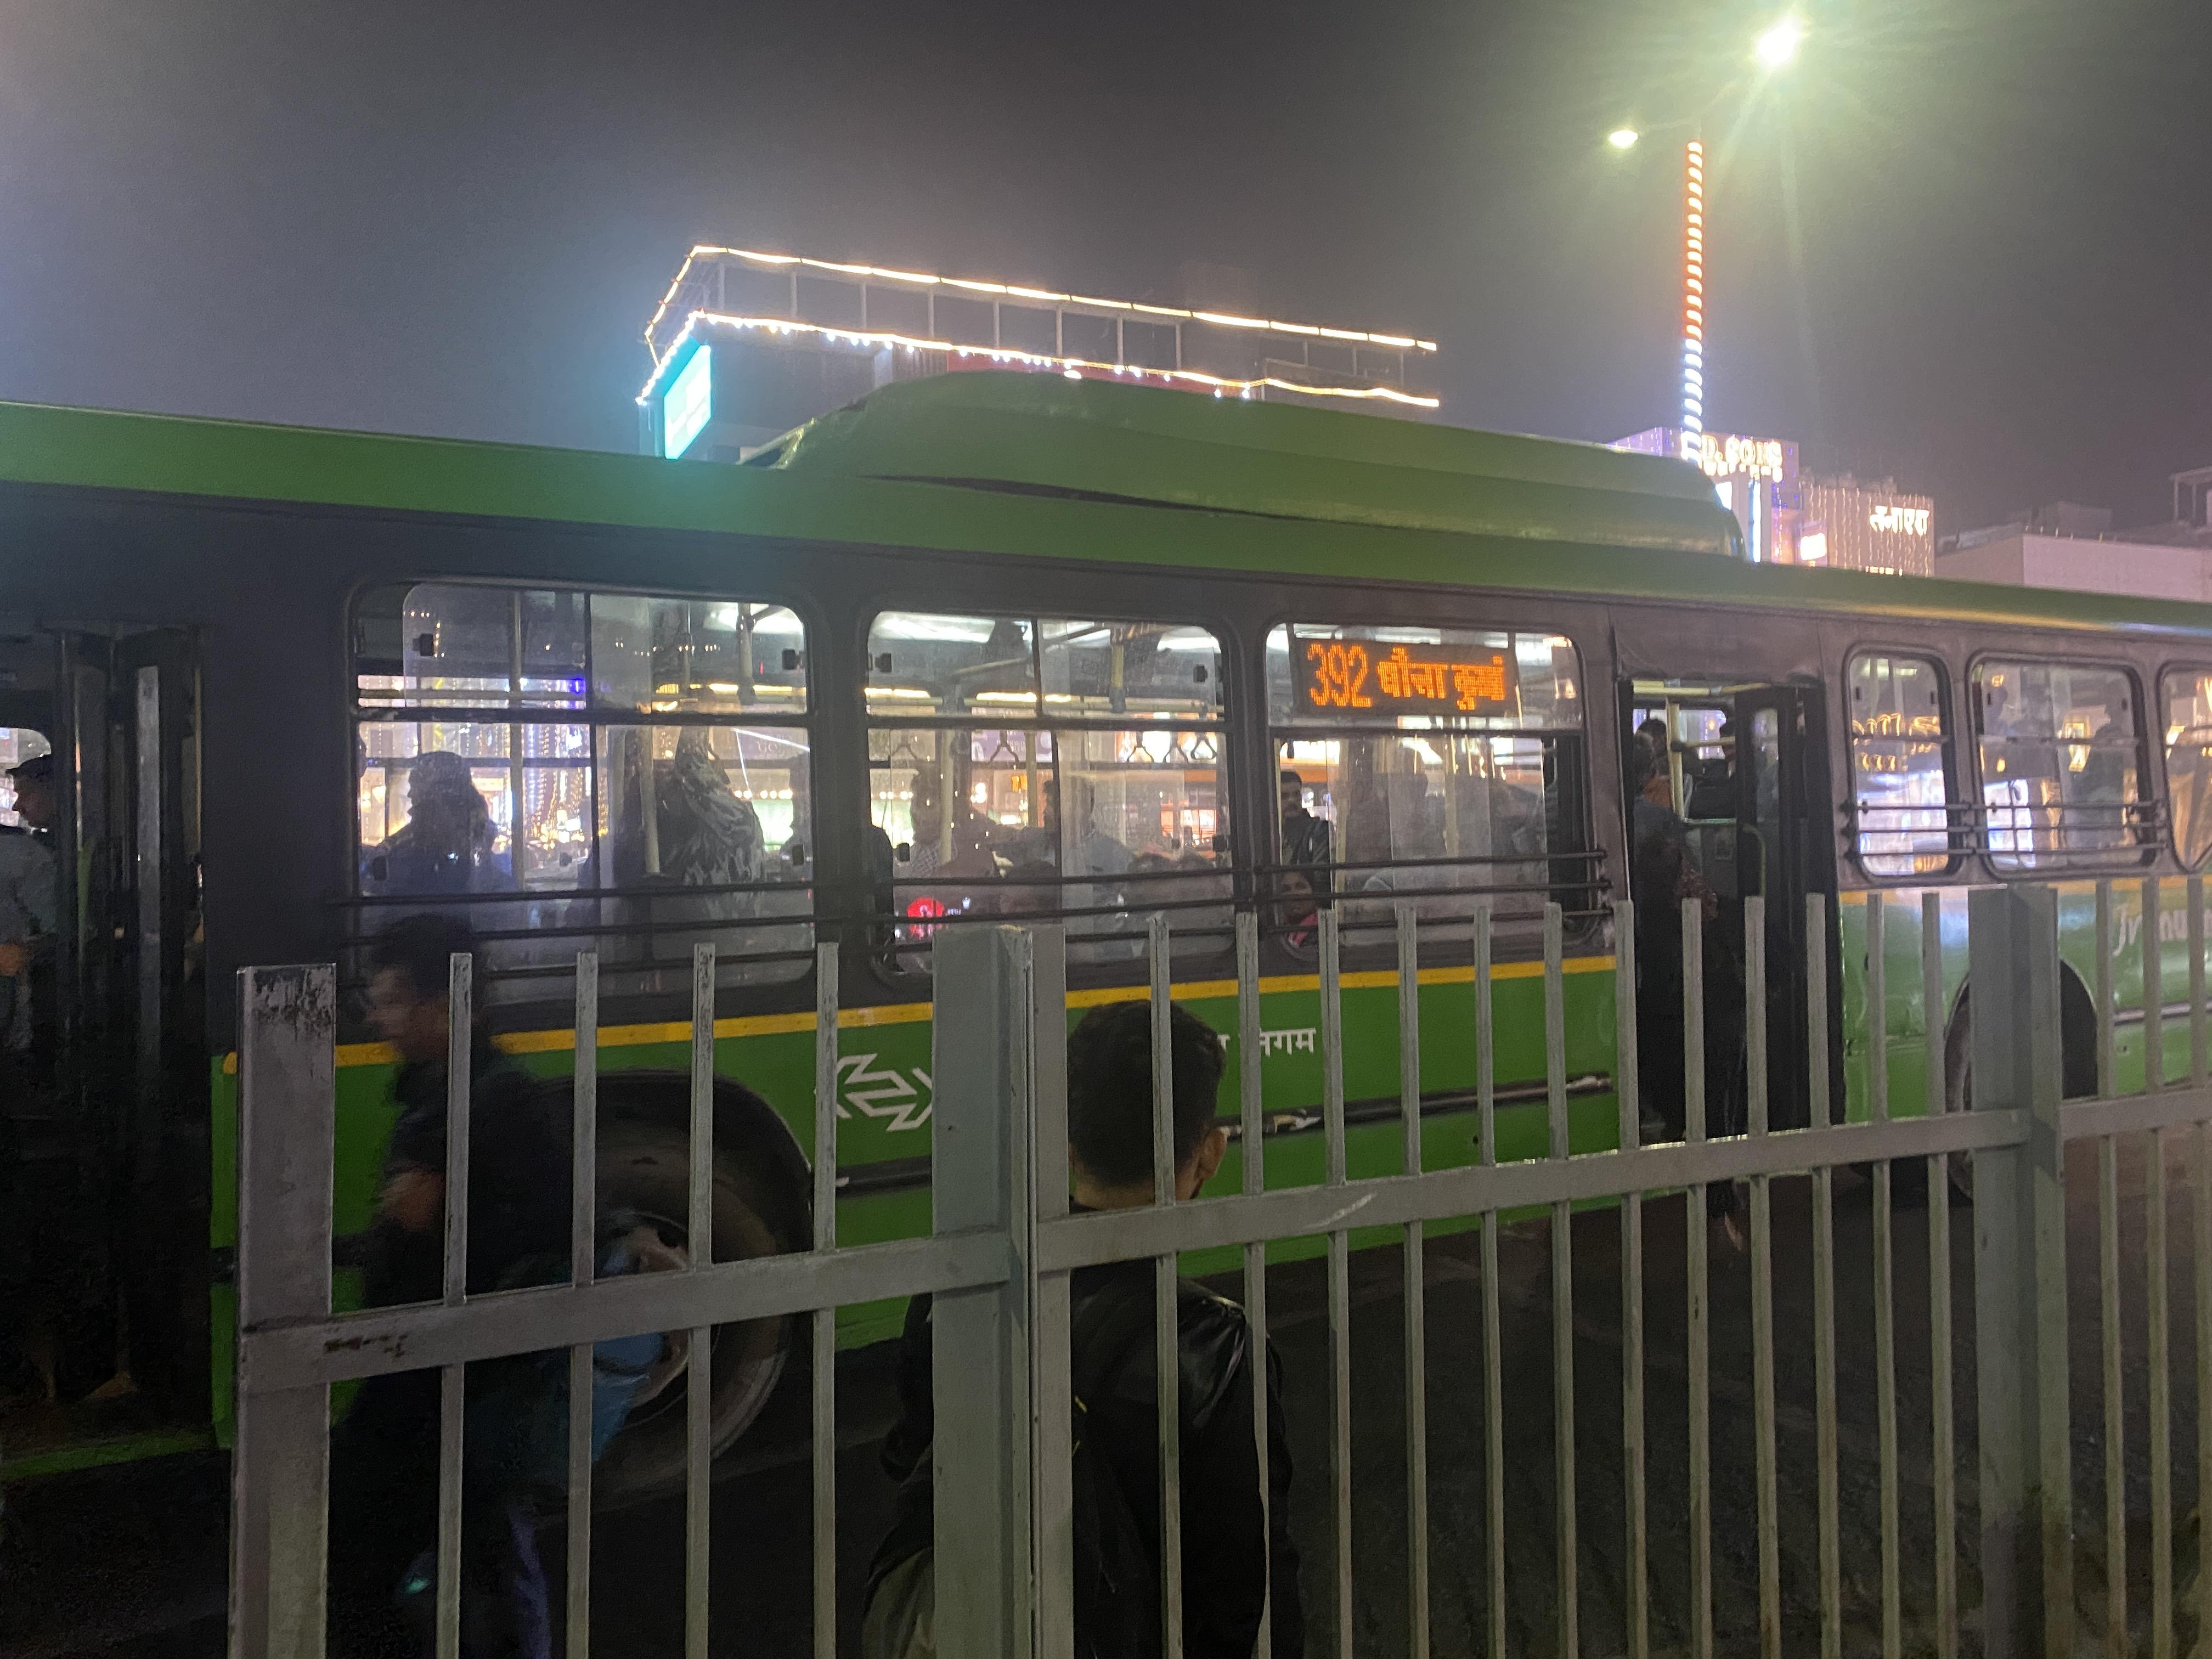Bus: (0, 340, 2212, 1504)
Display Board: (1261, 631, 1547, 730)
